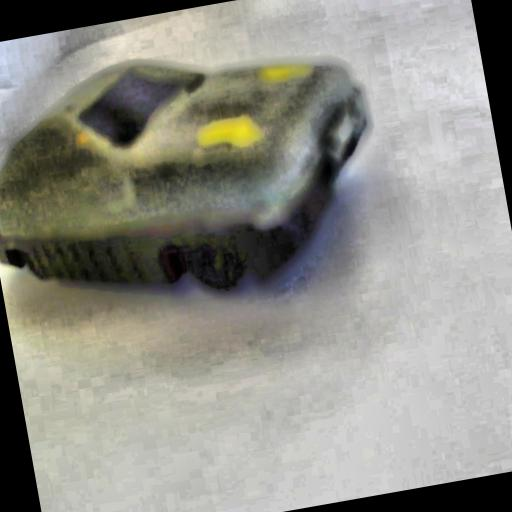normal_car: (0, 10, 401, 340)
